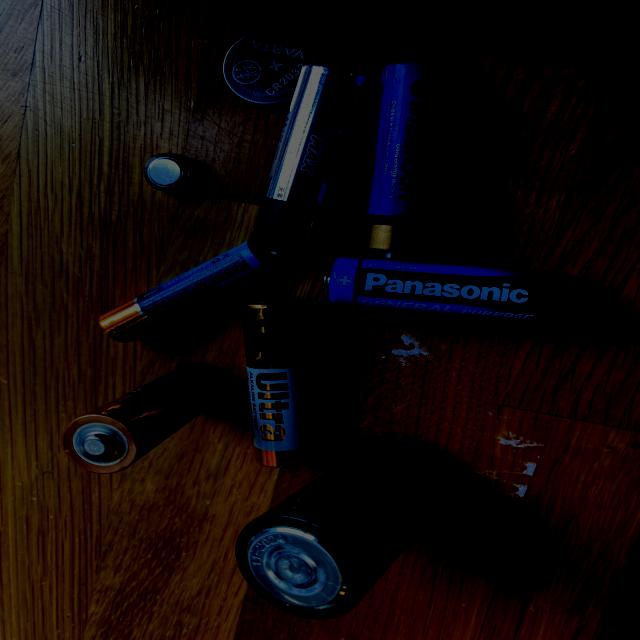AA: (247, 63, 372, 259), (59, 362, 228, 476), (359, 60, 453, 263), (320, 255, 579, 326), (237, 295, 320, 471)
AAA: (97, 240, 280, 344)
COIN: (220, 26, 318, 109), (142, 152, 200, 194)
